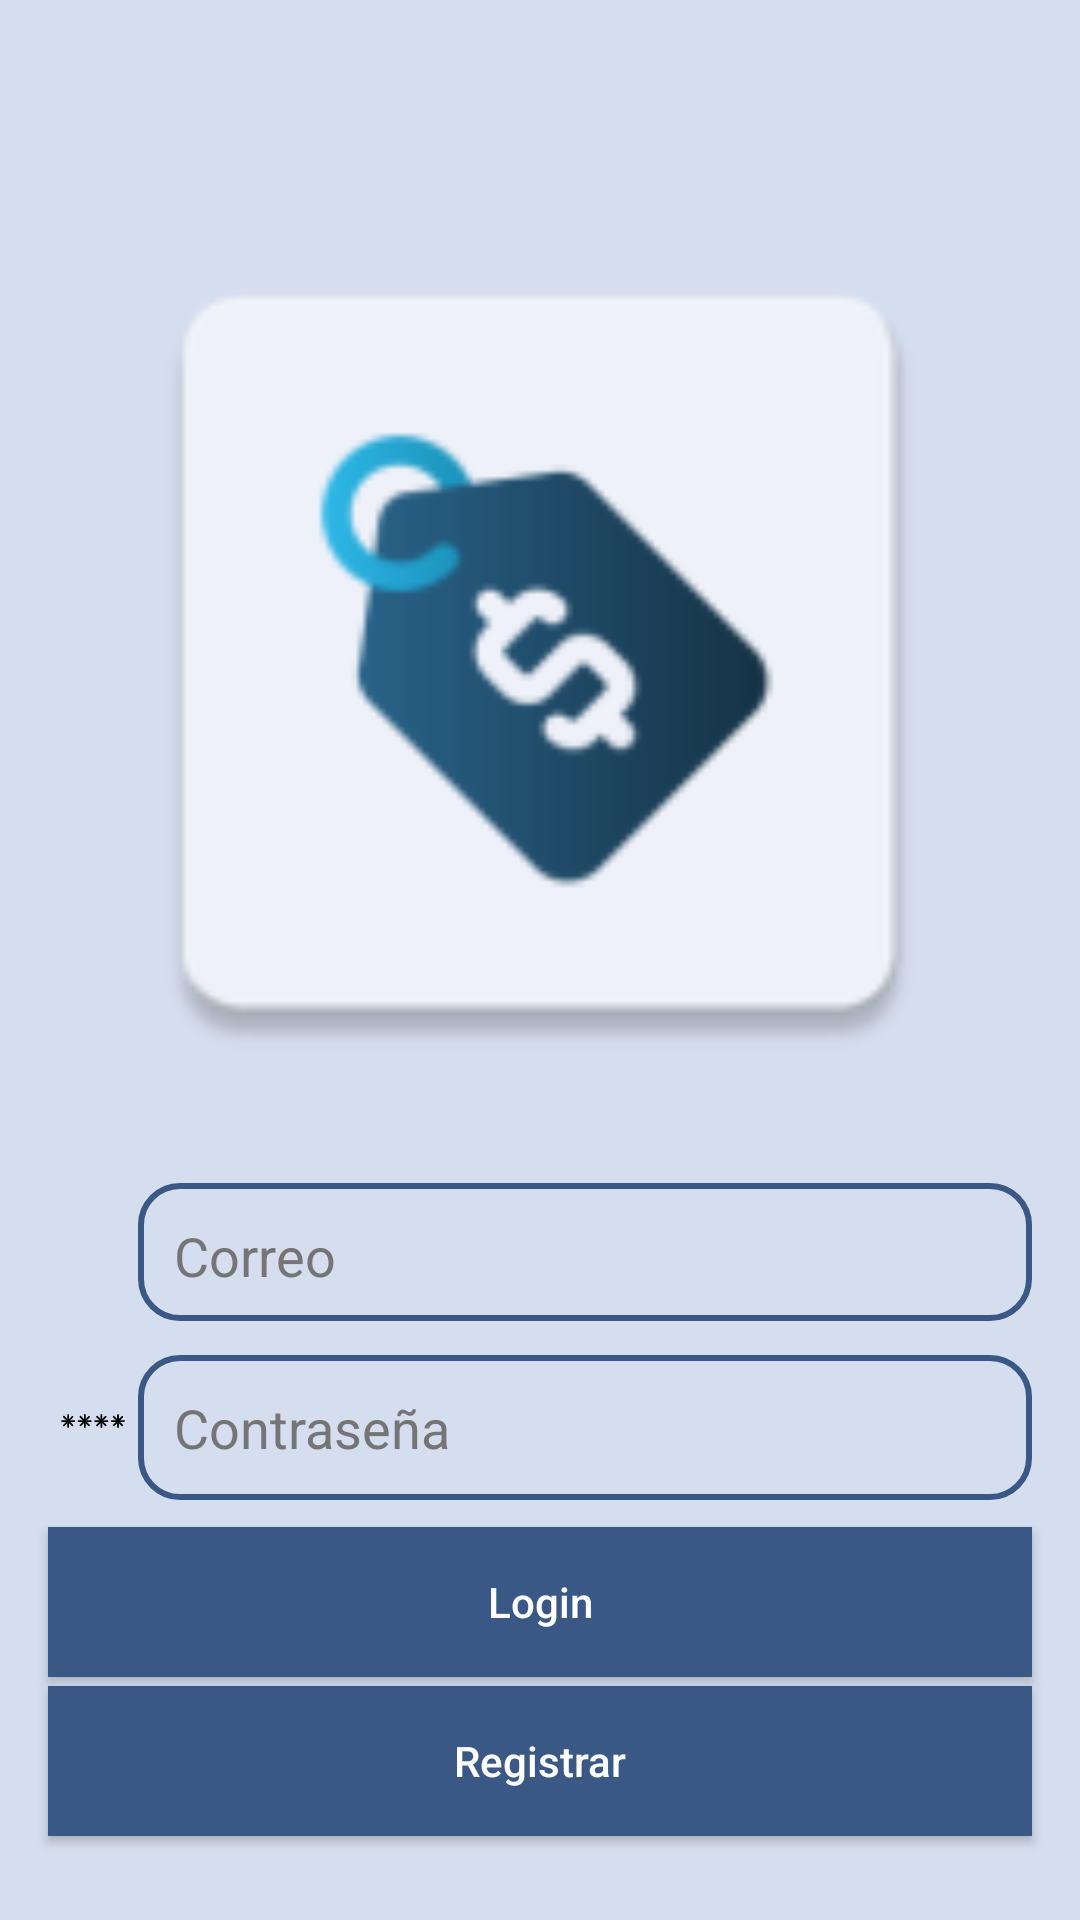

Icon click points for this 1080 x 1920 phone screenshot, format (x=x, y=y):
password: (x=93, y=1421)
